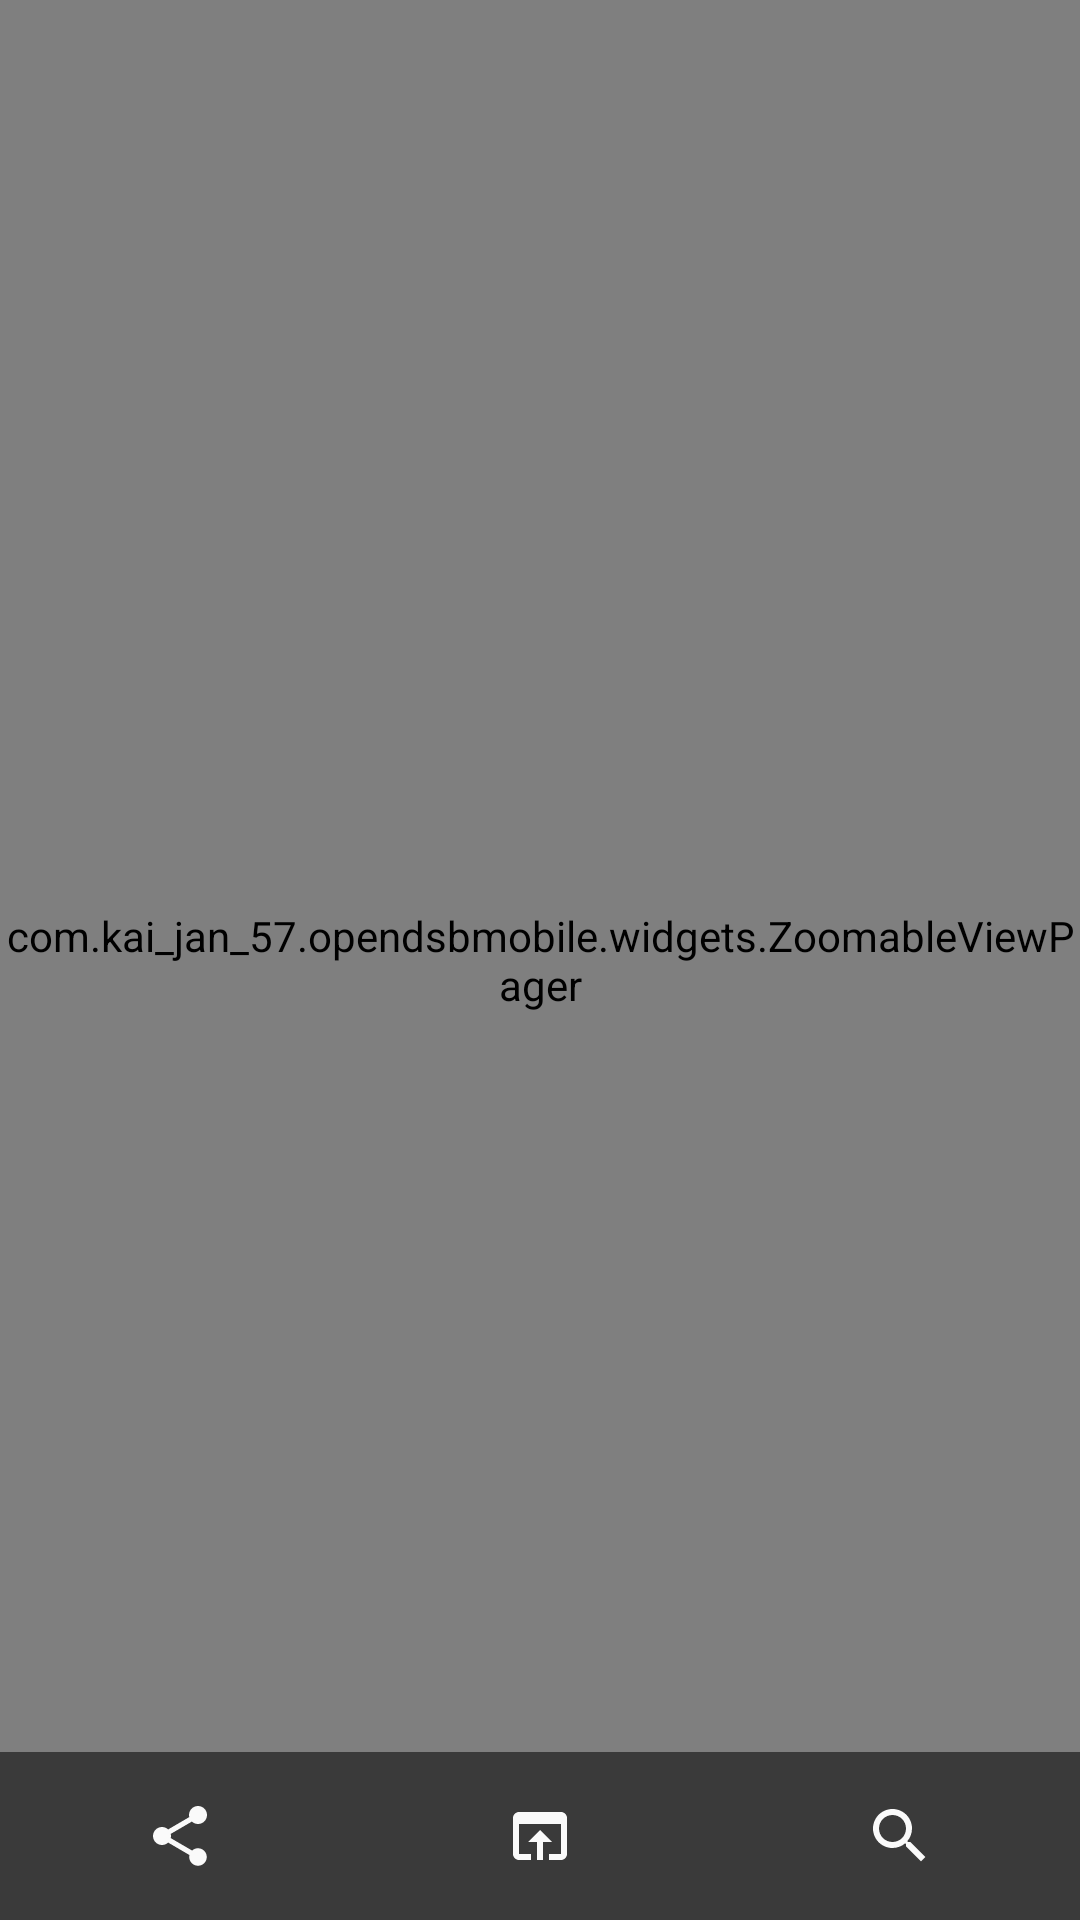

Locate icon controls on the screen. Image size 1080px×1920px, boxes as bbox=(x1, y1, x2, y2).
open in browser: bbox=(513, 1812, 567, 1860)
search: bbox=(873, 1809, 925, 1861)
Share: bbox=(153, 1806, 207, 1866)
